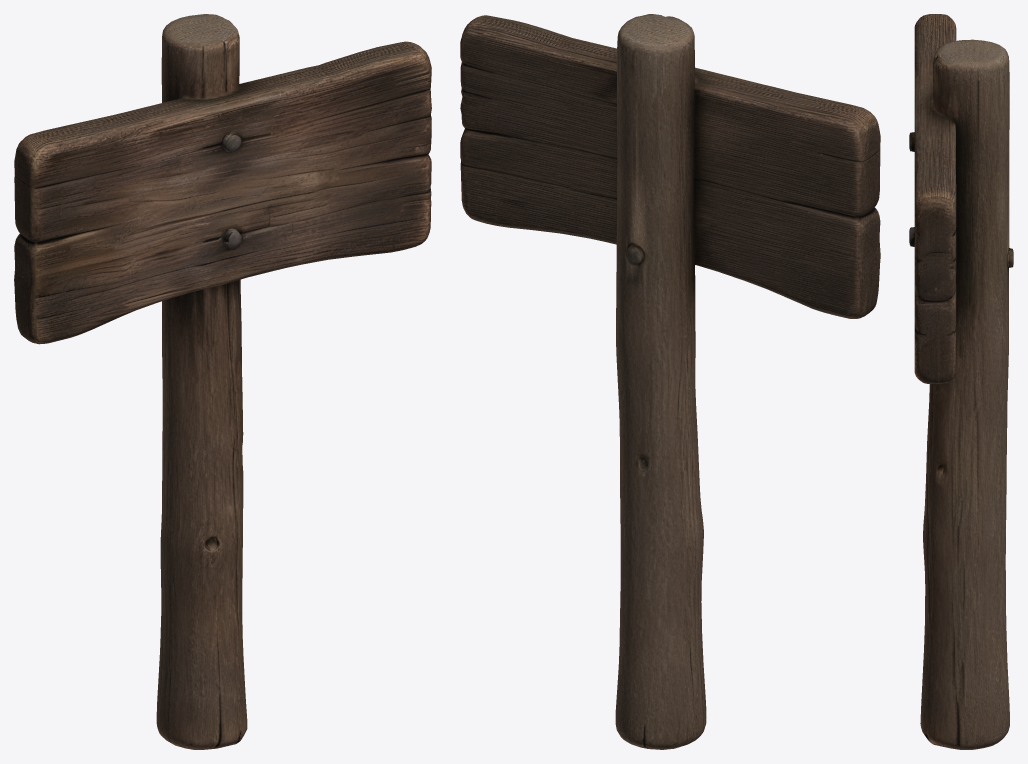
Rendered from away_sign_hunyuan31.glb.
3 renders of one model, left to right at view 1: azimuth 30°, elevation 25°; view 2: azimuth 150°, elevation 25°; view 3: azimuth 270°, elevation 25°, orthographic. The views are drawn at different scales.
Visible parts, largest first — view 1: node_0; view 2: node_0; view 3: node_0.
Boxes of the visible parts, left/top/right/bottom form: node_0: left=14, top=14, right=431, bottom=749; node_0: left=460, top=14, right=880, bottom=749; node_0: left=909, top=14, right=1013, bottom=749.
Bounding box in the file's own units: 0.6964 × 1.17 × 0.1612.
Materials: 1 (1 with a texture image).
